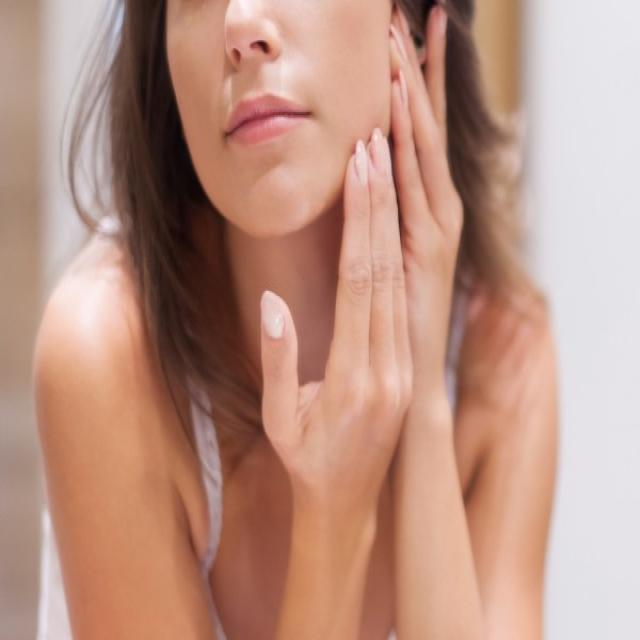Oily-Skin: (298, 0, 394, 104), (233, 148, 318, 210), (176, 14, 219, 125)
